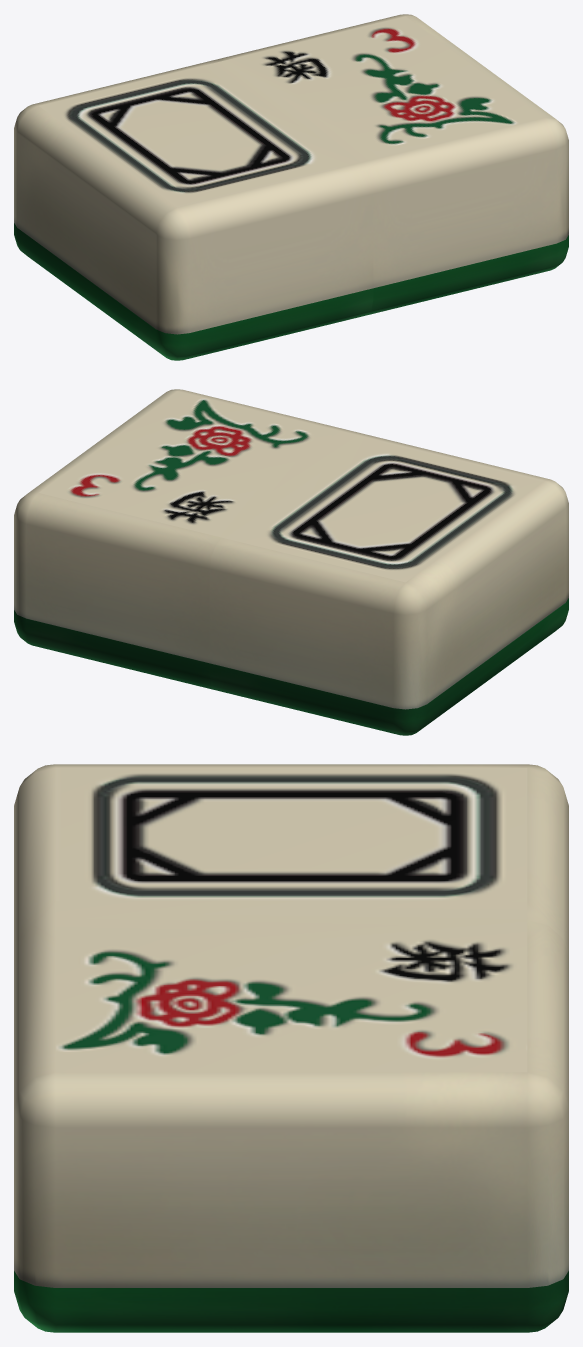
The model's file is DUOPAI.fbx.
3 renders of one model, top to bottom at view 1: azimuth 30°, elevation 25°; view 2: azimuth 150°, elevation 25°; view 3: azimuth 270°, elevation 25°, orthographic. The views are drawn at different scales.
Visible parts, largest first — view 1: DUOPAI; view 2: DUOPAI; view 3: DUOPAI.
Boxes of the visible parts, <box> form: DUOPAI: <box>14,14,568,360</box>; DUOPAI: <box>14,389,568,735</box>; DUOPAI: <box>14,764,568,1332</box>.
Bounding box in the file's own units: 1476 × 520 × 1019.
3 materials, 3 textured.
